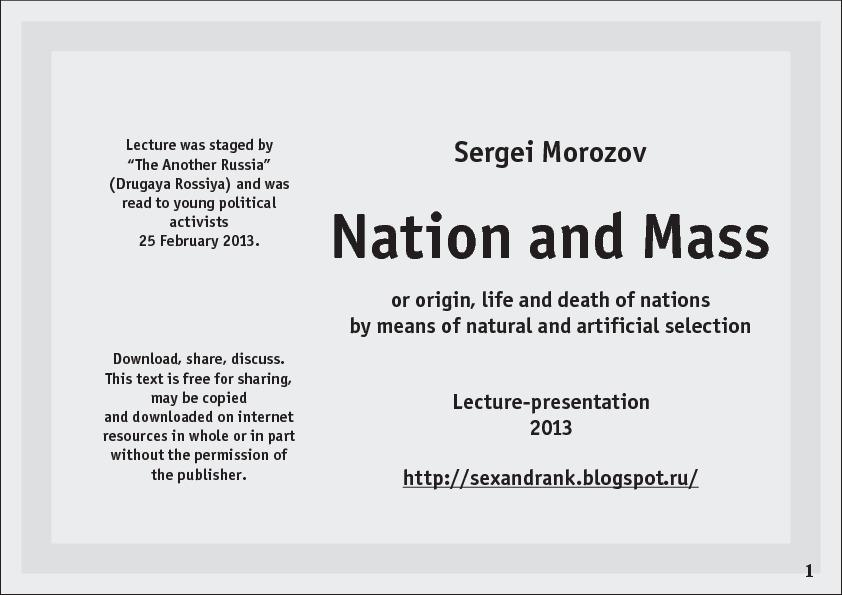paragraph: (337, 287, 776, 534)
title: (324, 99, 804, 279)
